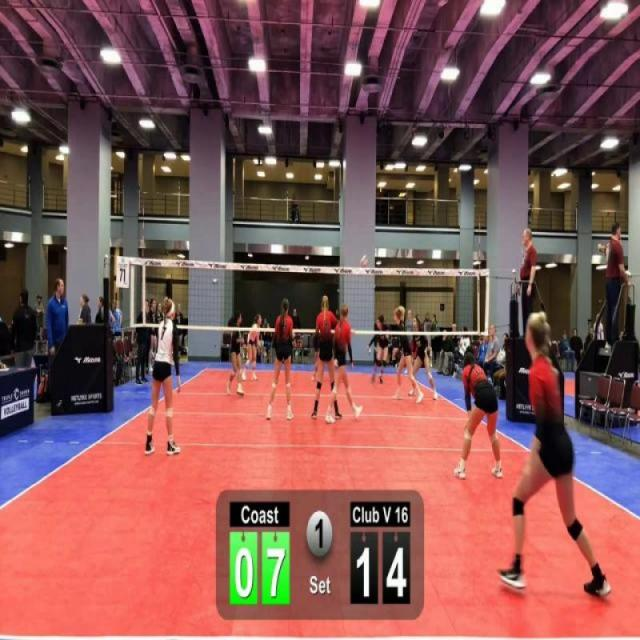volleyball: (358, 254, 369, 268)
